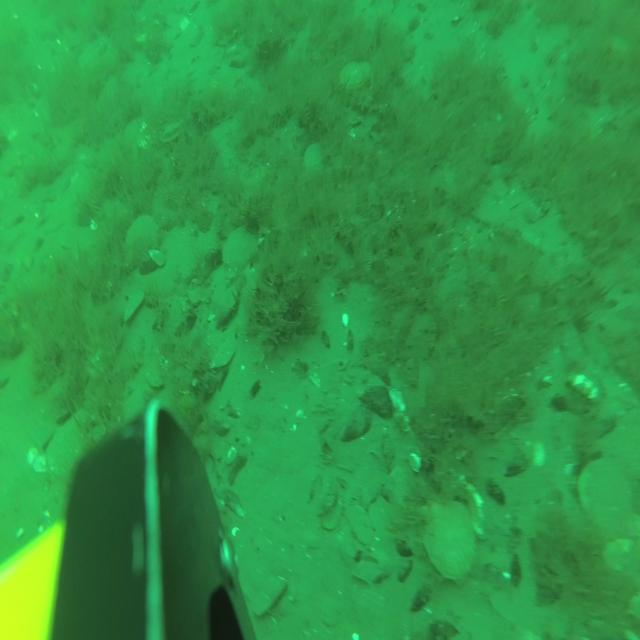scallop: (575, 453, 634, 540), (422, 494, 478, 582), (222, 218, 260, 281), (126, 212, 160, 266), (123, 112, 161, 157), (338, 54, 374, 94), (301, 137, 331, 178), (158, 111, 190, 147)
